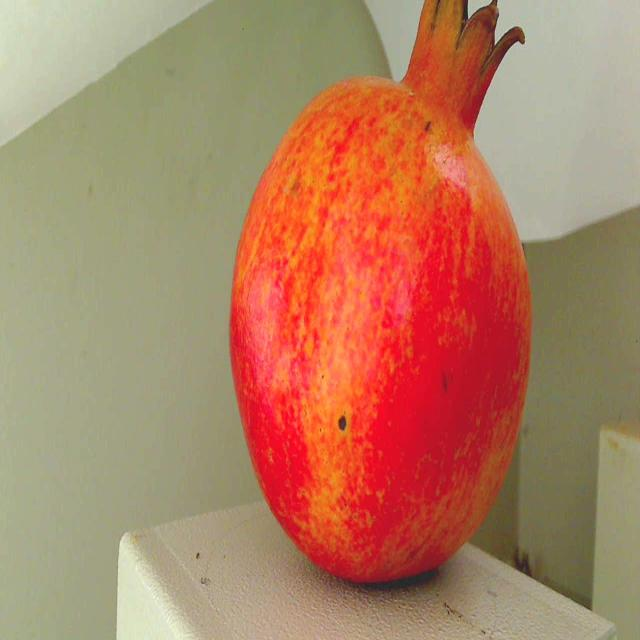pomegranate: (227, 0, 555, 601)
